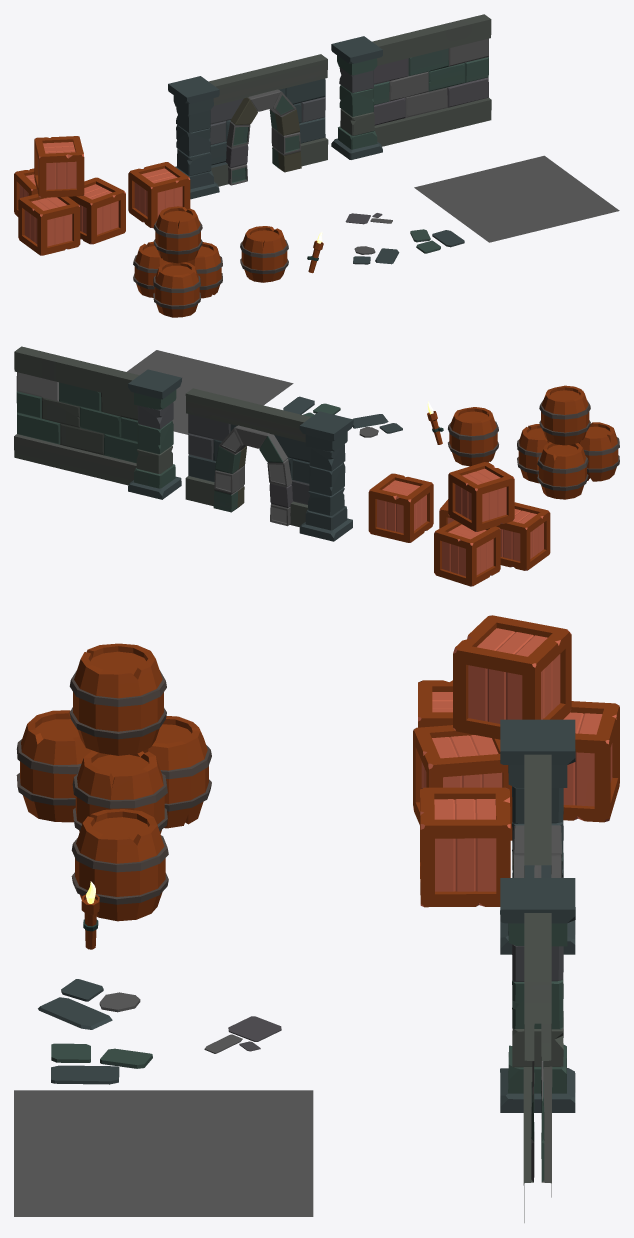
File: dungeon-modular-assets.glb
The picture shows the model from 3 angles, top to bottom: view 1: azimuth 30°, elevation 25°; view 2: azimuth 150°, elevation 25°; view 3: azimuth 270°, elevation 25°; orthographic projection. The views are drawn at different scales.
Parts seen in each view (by area): view 1: Wall.059, Doorway.004, Floor.050, Cube.018, Cube.021, Cube.036, Cube.019, Barrel.017, Barrel.016, Barrel.014, Barrel.015, Barrel.013 (+3 smaller); view 2: Wall.059, Doorway.004, Floor.050, Cube.021, Cube.036, Cube.020, Cube.018, Barrel.016, Barrel.017, Barrel.013, Barrel.014, Barrel.015 (+2 smaller); view 3: Floor.050, Wall.059, Cube.021, Cube.036, Doorway.004, Barrel.016, Barrel.017, Barrel.014, Cube.020, Cube.019, Barrel.015, Barrel.013 (+5 smaller).
Part boxes in pixels (x1,y1,x2,y2): Wall.059: [331, 14, 491, 159]; Doorway.004: [168, 54, 328, 199]; Floor.050: [414, 155, 619, 242]; Cube.018: [18, 194, 80, 255]; Cube.021: [34, 136, 84, 197]; Cube.036: [128, 162, 190, 228]; Cube.019: [68, 177, 125, 244]; Barrel.017: [240, 226, 288, 282]; Barrel.016: [153, 206, 202, 263]; Barrel.014: [153, 262, 200, 317]; Barrel.015: [186, 242, 222, 298]; Barrel.013: [133, 241, 167, 297]; Wall.059: [14, 346, 181, 499]; Doorway.004: [185, 388, 353, 541]; Floor.050: [127, 350, 293, 434]; Cube.021: [448, 462, 514, 531]; Cube.036: [368, 473, 433, 542]; Cube.020: [434, 520, 500, 586]; Cube.018: [496, 502, 550, 570]; Barrel.016: [539, 385, 590, 445]; Barrel.017: [448, 407, 498, 466]; Barrel.013: [537, 442, 588, 499]; Barrel.014: [578, 422, 619, 481]; Barrel.015: [517, 424, 549, 483]; Floor.050: [14, 1090, 313, 1216]; Wall.059: [500, 878, 575, 1222]; Cube.021: [453, 615, 571, 739]; Cube.036: [420, 787, 510, 907]; Doorway.004: [500, 719, 575, 954]; Barrel.016: [69, 643, 166, 755]; Barrel.017: [71, 809, 168, 921]; Barrel.014: [16, 710, 91, 822]; Cube.020: [563, 701, 619, 822]; Cube.019: [413, 725, 512, 840]; Barrel.015: [72, 750, 167, 833]; Barrel.013: [143, 716, 211, 828].
Size of the model in its own units: 14.6 by 3.06 by 8.1.
Materials: 3 (2 with a texture image).
